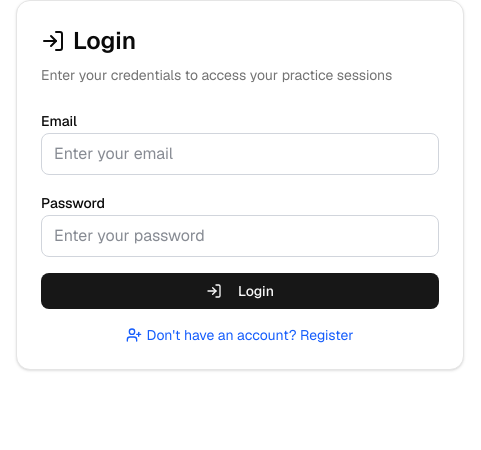
Test: LoginForm › should show error message on login failure
The width and height of the screenshot is (481, 450).
In the field labelled "Email": (240, 154) [41, 133, 439, 175], type "test@example.com"
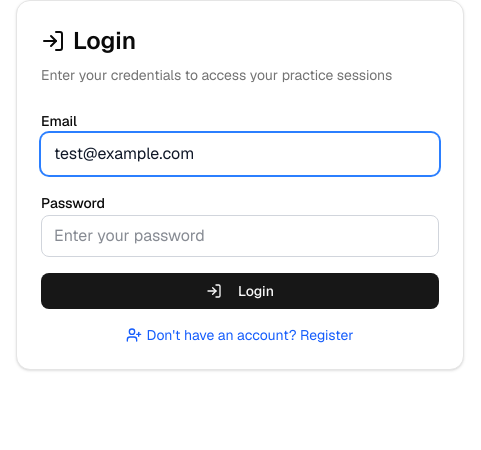
In the password field labelled "Password": (240, 236) [41, 215, 439, 257], type "wrongpassword"
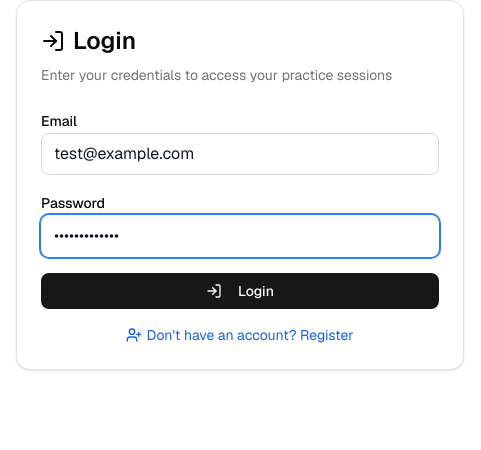
Click the button "Login": (240, 291) [41, 273, 439, 309]
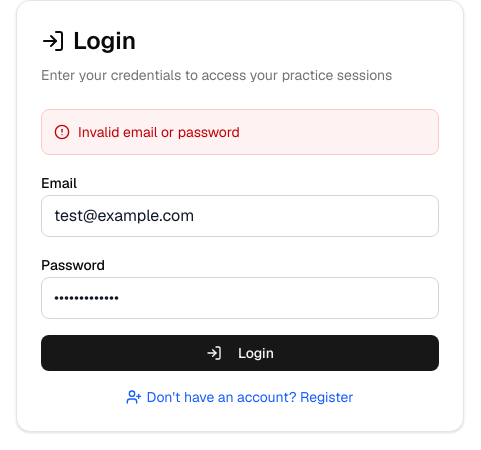
Now the text "Invalid email or password" is shown, box [78, 122, 240, 142]
